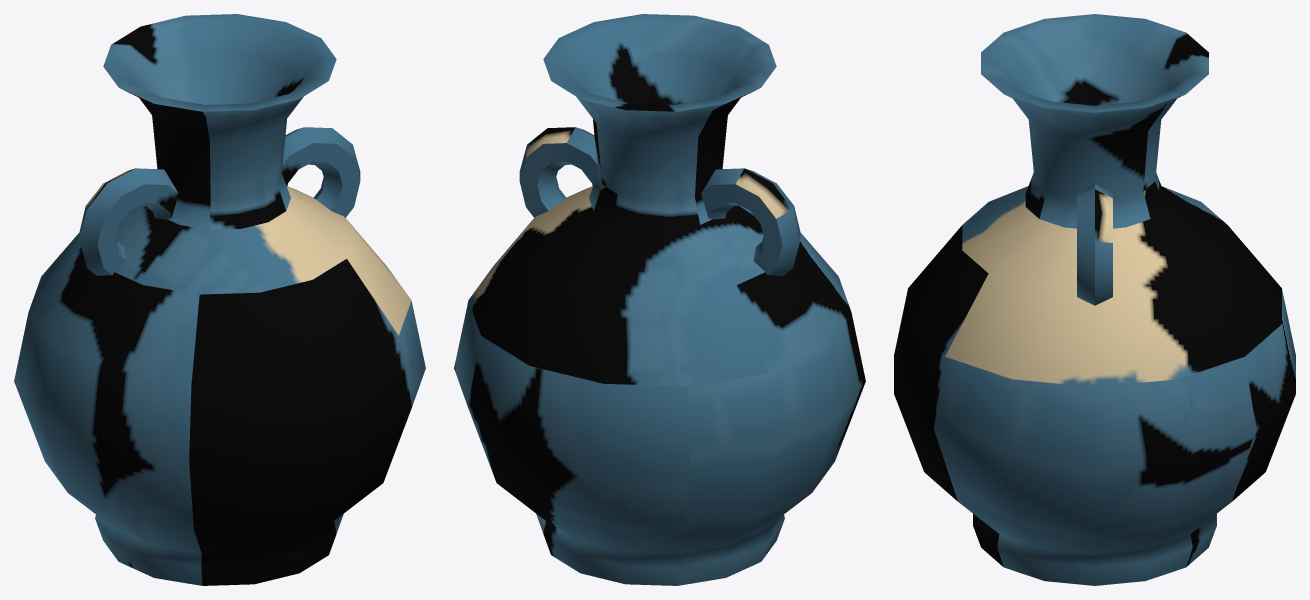
The model's file is ceramic_vase.glb.
3 views of the same model, side by side, from view 1: azimuth 30°, elevation 25°; view 2: azimuth 150°, elevation 25°; view 3: azimuth 270°, elevation 25° (orthographic).
Parts seen in each view (by area): view 1: body, handle_left, handle_right; view 2: body, handle_left, handle_right; view 3: body, handle_right.
Part boxes in pixels (<box>): body: <box>14,14,425,585</box>; handle_left: <box>79,168,178,275</box>; handle_right: <box>282,127,360,218</box>; body: <box>454,14,865,585</box>; handle_left: <box>701,168,800,275</box>; handle_right: <box>519,127,597,218</box>; body: <box>894,14,1295,585</box>; handle_right: <box>1077,183,1112,305</box>.
Size of what is drawn, in the model's own units: 0.3 by 0.38 by 0.2925.
2 materials, 2 textured.
